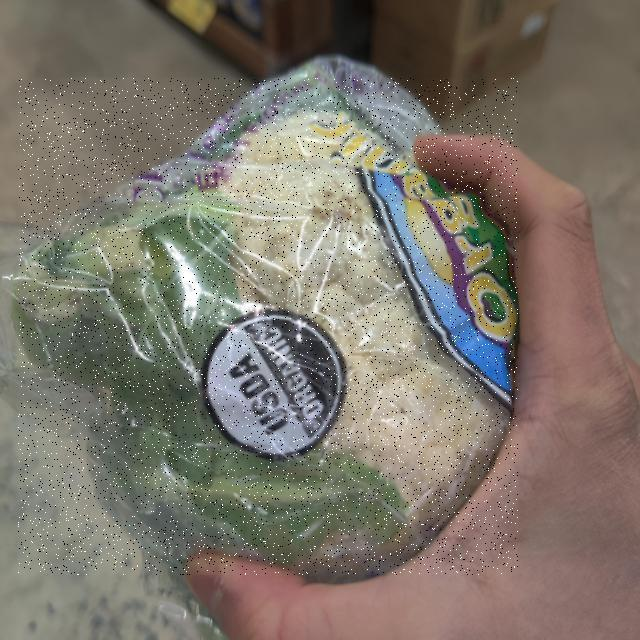Cauliflower: (18, 78, 518, 575)
